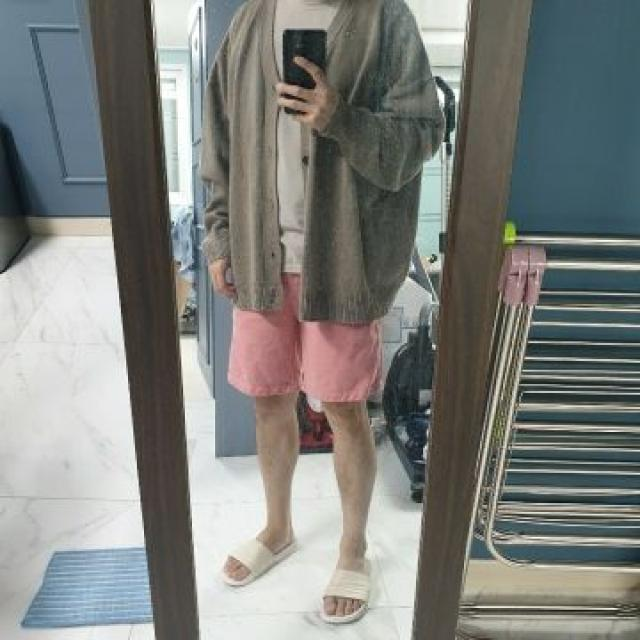cardigan: (201, 0, 449, 318)
shortpants: (226, 260, 382, 406)
